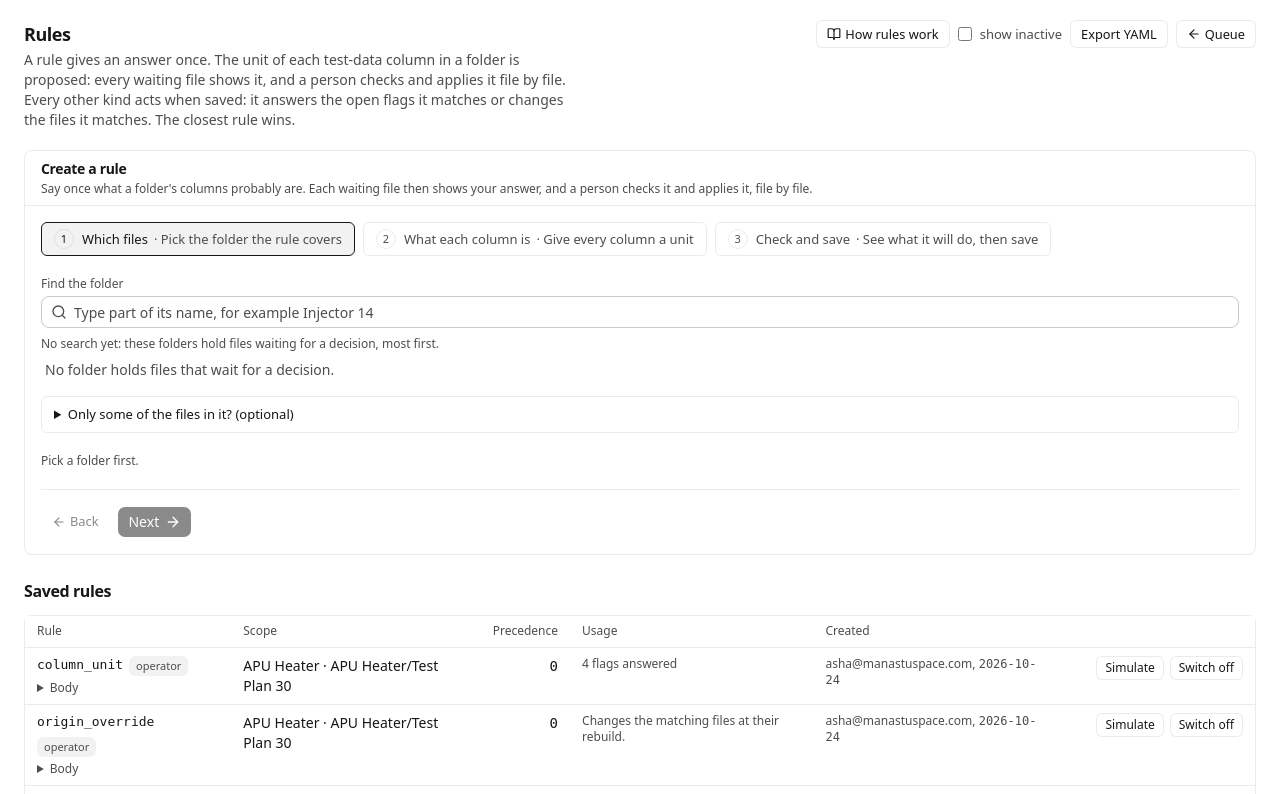
Scenario: Rules page › words a simulation of a rule that acts without "never changed"
Check: the text "column_unit" is shown, box [37, 656, 123, 675]
What coordinates should you click on to do the following:
click the button "Simulate" in the row of "column_unit"
I would click on:
 (1130, 668)
Its box is [1096, 656, 1164, 680].
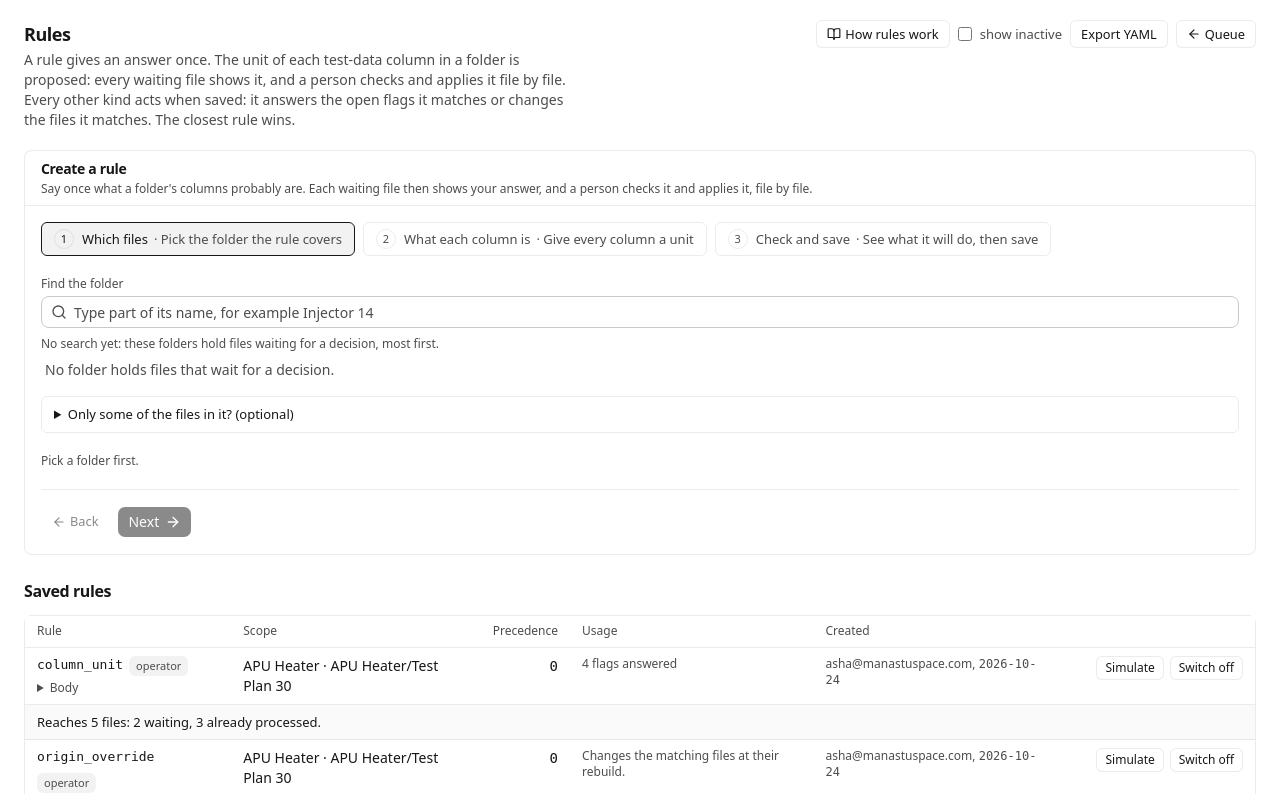
Check: the text "Reaches 5 files: 2 waiting, 3 already processed." is shown, box [37, 713, 321, 731]
